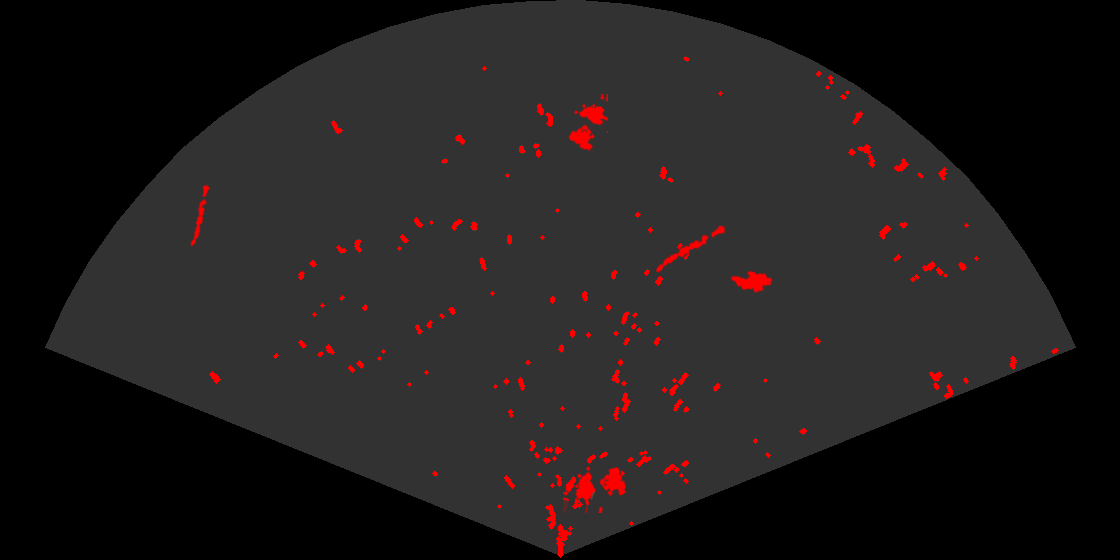AUV: (729, 269, 774, 295)
cage: (563, 465, 628, 513), (567, 94, 608, 153)
chain: (654, 223, 729, 274), (189, 183, 212, 250)
